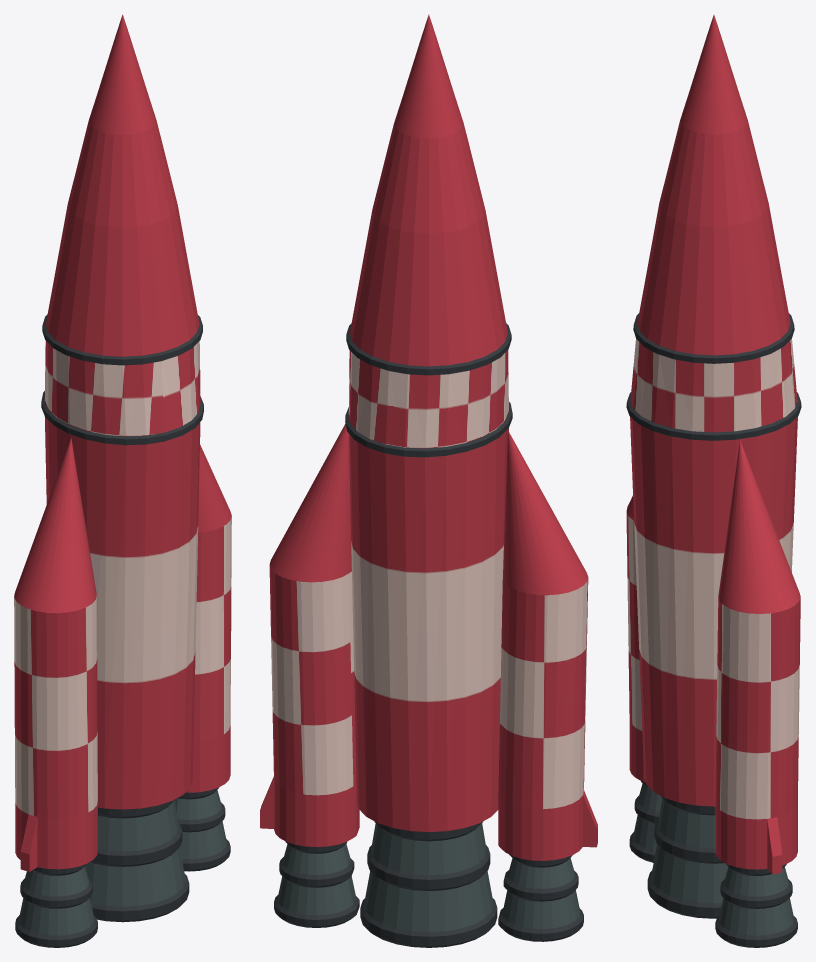
The model's file is fusee.fbx.
3 views of the same model, side by side, from view 1: azimuth 30°, elevation 25°; view 2: azimuth 150°, elevation 25°; view 3: azimuth 270°, elevation 25° (orthographic). The views are drawn at different scales.
Visible parts, largest first — view 1: Fusee; view 2: Fusee; view 3: Fusee.
Part boxes in pixels (box(x1,y1,x2,y2)): Fusee: box(14, 14, 231, 947); Fusee: box(260, 14, 597, 947); Fusee: box(626, 15, 801, 947).
Size of the model in its own units: 356 by 1126 by 204.
